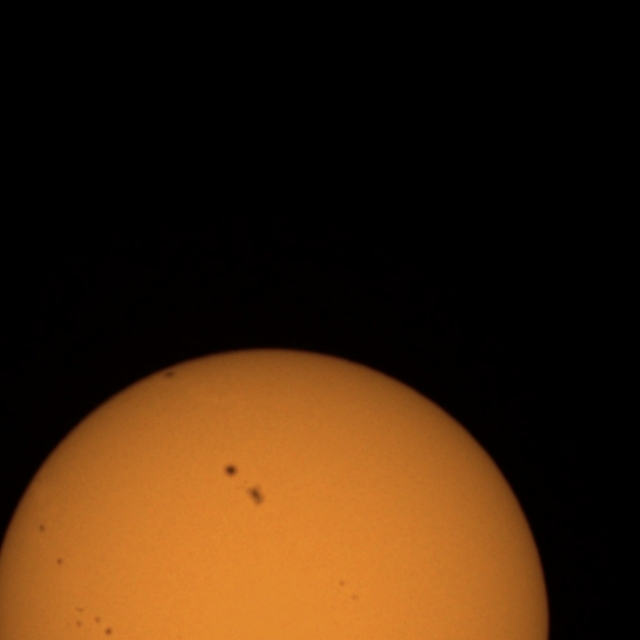sunspot: (219, 461, 263, 506), (233, 476, 266, 508), (73, 610, 112, 637), (338, 579, 361, 603), (92, 614, 114, 638), (72, 606, 87, 630), (222, 462, 240, 479), (104, 626, 114, 638), (37, 522, 47, 534), (338, 578, 347, 589), (55, 556, 64, 567)
